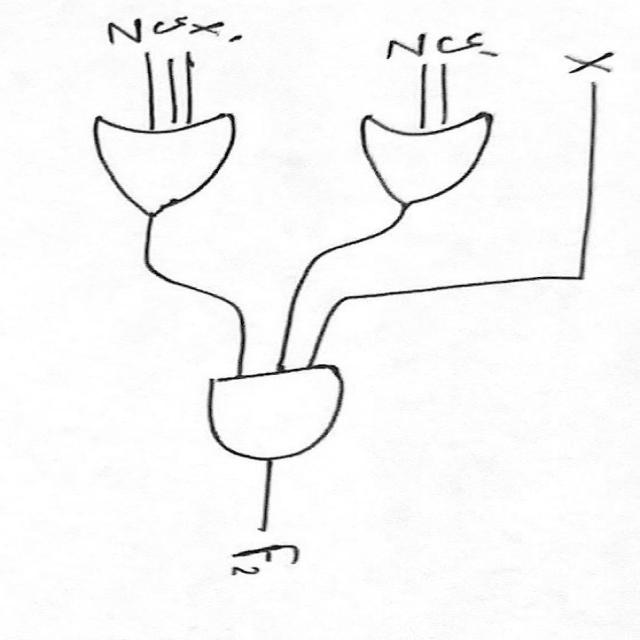AND: (160, 358, 380, 480)
OR: (73, 106, 261, 234), (330, 102, 511, 215)
